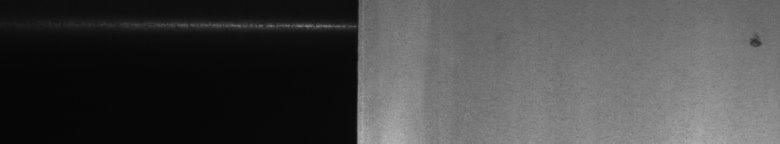fi: (747, 28, 765, 55)
